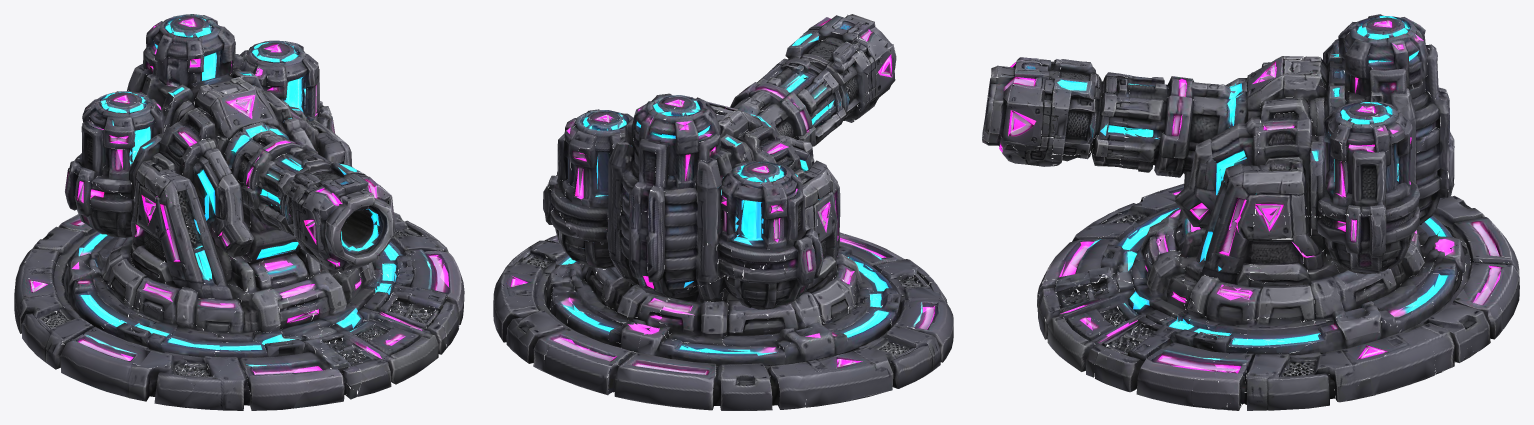
Rendered from warrior-6-tier-3.glb.
3 views of the same model, side by side, from view 1: azimuth 30°, elevation 25°; view 2: azimuth 150°, elevation 25°; view 3: azimuth 270°, elevation 25° (orthographic). The views are drawn at different scales.
Visible parts, largest first — view 1: fixed-platform, moving-assembly; view 2: moving-assembly, fixed-platform; view 3: moving-assembly, fixed-platform.
Boxes of the visible parts, x1,y1,x2,y2 form: fixed-platform: (14,185,464,410); moving-assembly: (65,14,395,285); moving-assembly: (543,14,896,309); fixed-platform: (493,220,953,410); moving-assembly: (982,14,1454,281); fixed-platform: (1037,174,1519,410).
Bounding box in the file's own units: 1.57 × 0.9969 × 1.67.
Materials: 3 (3 with a texture image).
